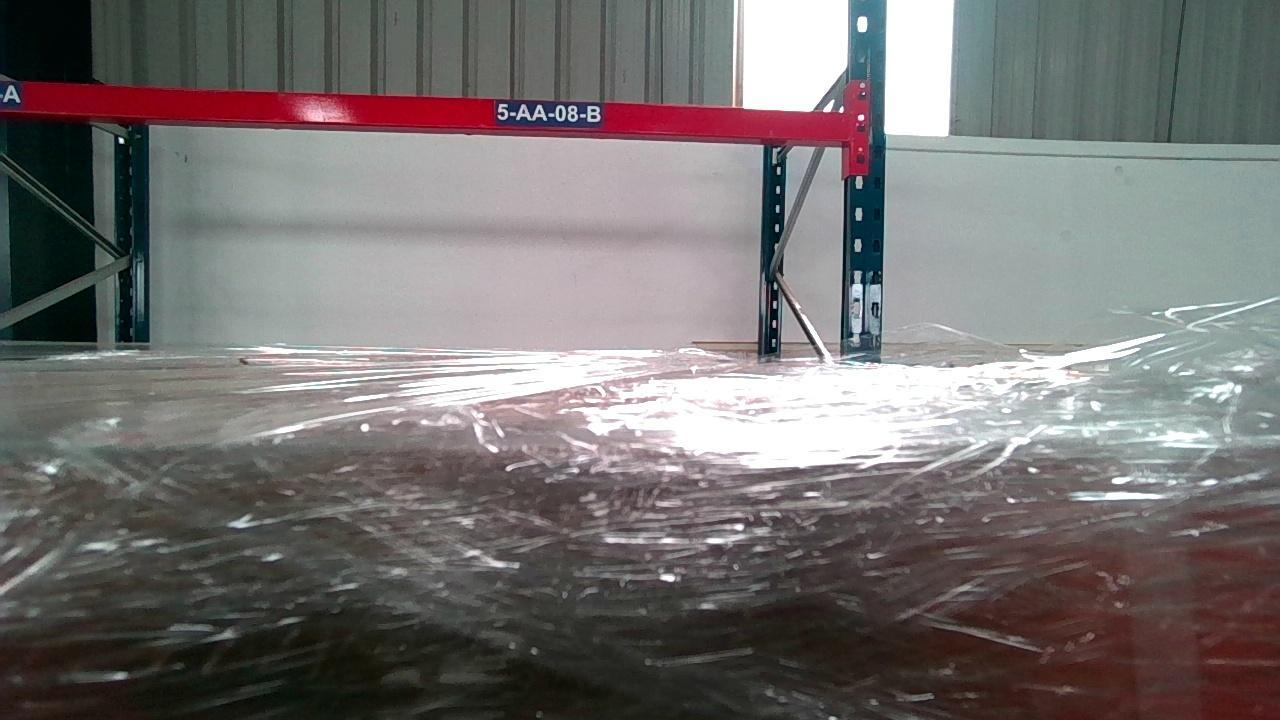h_rack: (0, 77, 851, 141)
